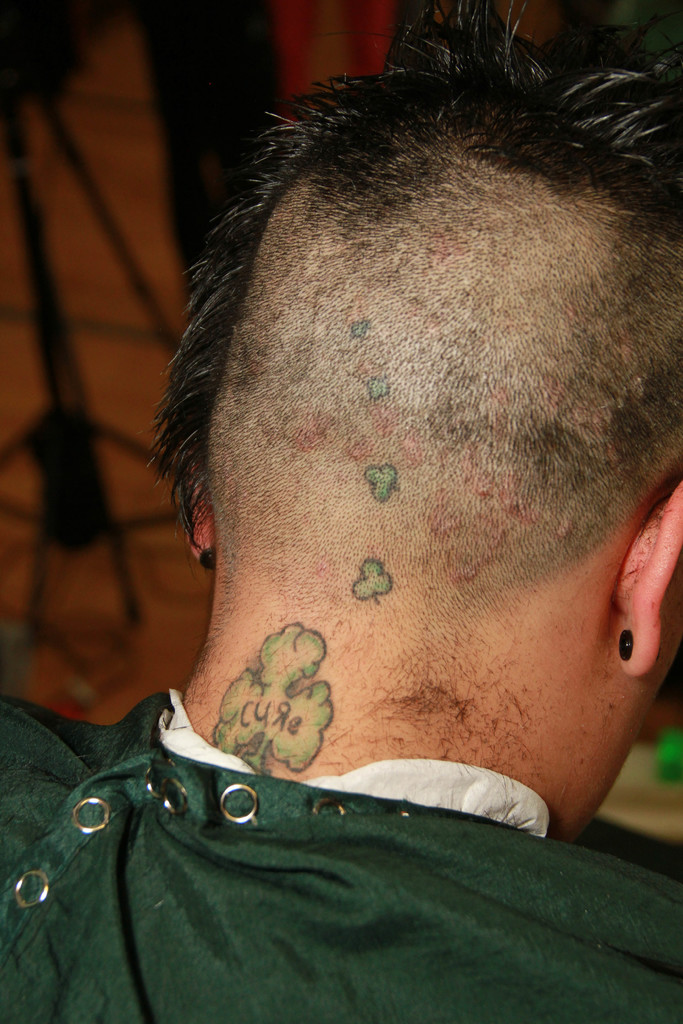person: (114, 0, 282, 290)
